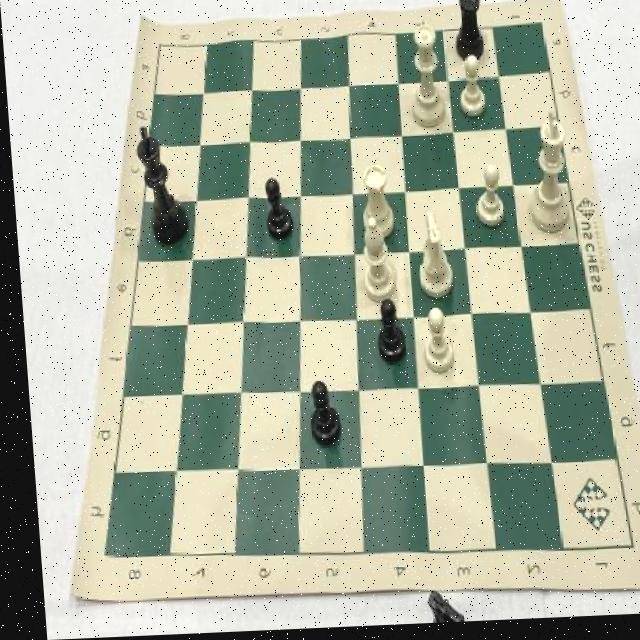black-bishop: (128, 123, 189, 254)
black-knight: (295, 377, 338, 454), (255, 175, 294, 252), (364, 299, 405, 370)
black-queen: (446, 0, 491, 72)
black-rook: (351, 213, 394, 314)
white-bishop: (515, 106, 574, 245)
white-king: (407, 210, 454, 305)
white-knight: (413, 306, 454, 385), (466, 163, 505, 237), (450, 57, 491, 126)
white-pawn: (398, 22, 447, 137)
white-queen: (352, 159, 398, 248)
